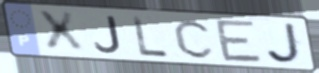C: (172, 18, 218, 60)
E: (213, 18, 266, 65)
J: (264, 22, 306, 66), (92, 15, 124, 55)
L: (129, 13, 171, 58)
X: (34, 10, 89, 54)
